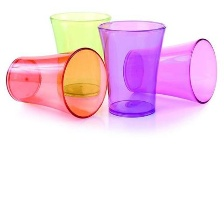glass: (0, 40, 112, 131), (121, 31, 221, 110), (97, 16, 169, 123), (43, 8, 114, 101)
